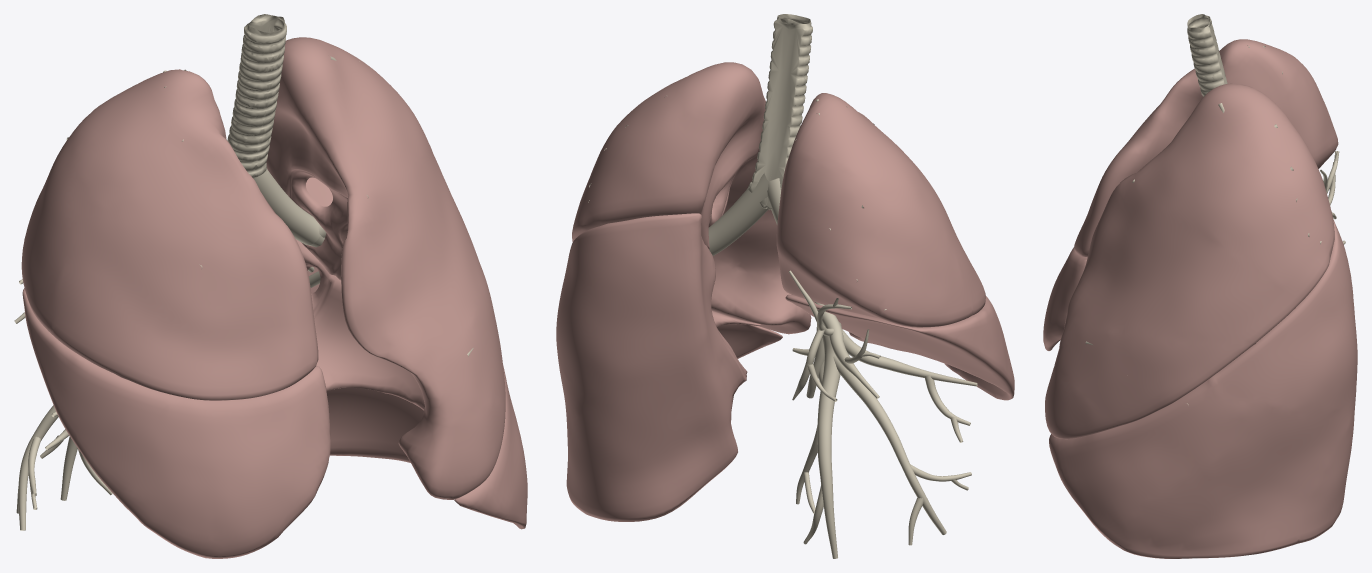
The model's file is thorax-lungs-airways-balanced.glb.
3 views of the same model, side by side, from view 1: azimuth 30°, elevation 25°; view 2: azimuth 150°, elevation 25°; view 3: azimuth 270°, elevation 25° (orthographic). The views are drawn at different scales.
Parts seen in each view (by area): view 1: organ.right-lung-partial, organ.superior-lobe-of-left-lung, organ.inferior-lobe-of-left-lung, organ.trachea, organ.left-main-bronchus, organ.lateral-basal-segmental-bronchus-of-right-lung-bix, organ.posterior-basal-segmental-bronchus-of-right-lung-bx; view 2: organ.inferior-lobe-of-left-lung, organ.right-lung-partial, organ.superior-lobe-of-left-lung, organ.trachea, organ.lateral-basal-segmental-bronchus-of-right-lung-bix, organ.posterior-basal-segmental-bronchus-of-right-lung-bx, organ.superior-segmental-bronchus-of-right-lung-bvi, organ.left-main-bronchus, organ.anterior-basal-segmental-bronchus-of-right-lung-bviii, organ.right-inferior-lobar-bronchus; view 3: organ.superior-lobe-of-left-lung, organ.inferior-lobe-of-left-lung, organ.right-lung-partial, organ.trachea, organ.superior-segmental-bronchus-of-right-lung-bvi.
Boxes of the visible parts, x1,y1,x2,y2 form: organ.right-lung-partial: (21, 69, 330, 558); organ.superior-lobe-of-left-lung: (266, 37, 505, 499); organ.inferior-lobe-of-left-lung: (296, 177, 527, 529); organ.trachea: (227, 14, 286, 177); organ.left-main-bronchus: (253, 169, 320, 244); organ.lateral-basal-segmental-bronchus-of-right-lung-bix: (16, 405, 58, 530); organ.posterior-basal-segmental-bronchus-of-right-lung-bx: (60, 436, 112, 500); organ.inferior-lobe-of-left-lung: (556, 213, 782, 521); organ.right-lung-partial: (776, 93, 1014, 400); organ.superior-lobe-of-left-lung: (572, 62, 811, 334); organ.trachea: (747, 14, 812, 209); organ.lateral-basal-segmental-bronchus-of-right-lung-bix: (833, 354, 971, 545); organ.posterior-basal-segmental-bronchus-of-right-lung-bx: (796, 408, 837, 558); organ.superior-segmental-bronchus-of-right-lung-bvi: (789, 270, 880, 401); organ.left-main-bronchus: (708, 173, 768, 255); organ.anterior-basal-segmental-bronchus-of-right-lung-bviii: (842, 329, 977, 442); organ.right-inferior-lobar-bronchus: (818, 322, 841, 411); organ.superior-lobe-of-left-lung: (1045, 83, 1334, 439); organ.inferior-lobe-of-left-lung: (1049, 219, 1357, 558); organ.right-lung-partial: (1043, 39, 1338, 350); organ.trachea: (1187, 14, 1227, 96); organ.superior-segmental-bronchus-of-right-lung-bvi: (1320, 151, 1345, 244).
Size of the model in its own units: 0.2534 by 0.2936 by 0.1852.
